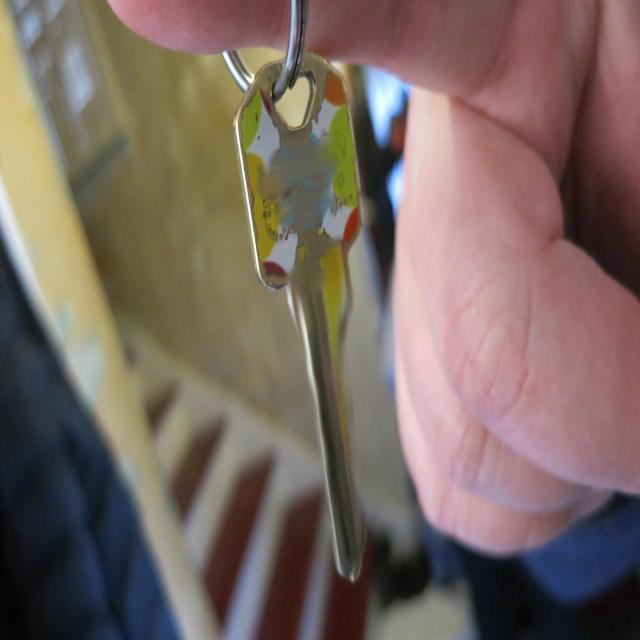Frontdoor keys: (232, 53, 364, 583)
